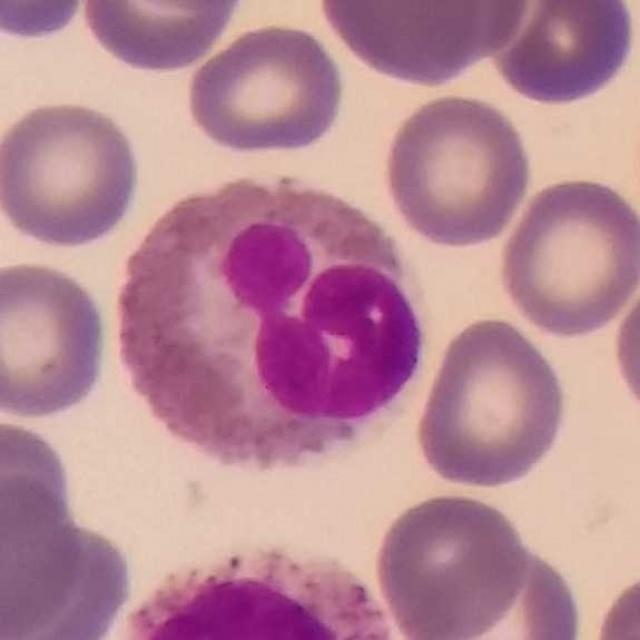eosino: (118, 173, 420, 460)
